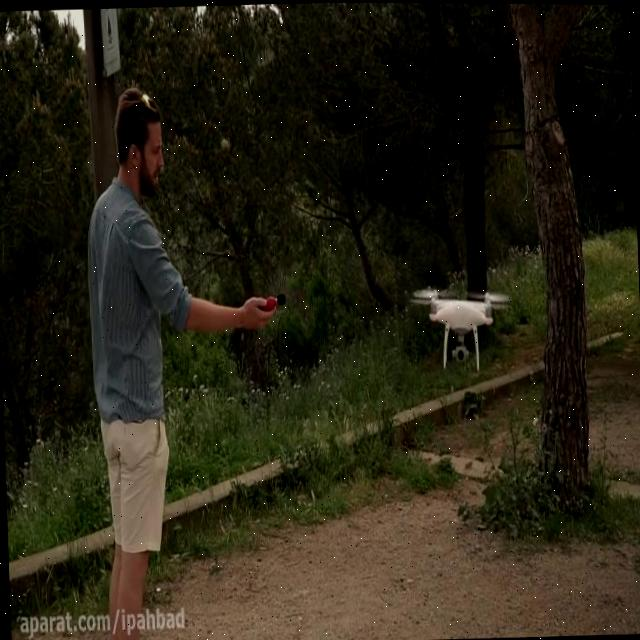drone: (409, 285, 514, 369)
